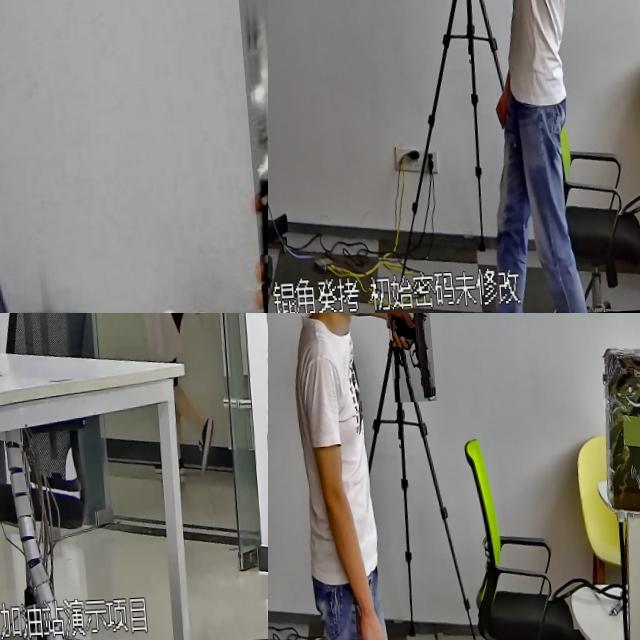-: (233, 0, 268, 313)
gun-knife-thesis - v11 Yolov5 augmented: (382, 313, 430, 406), (169, 313, 211, 386), (407, 0, 457, 44)
